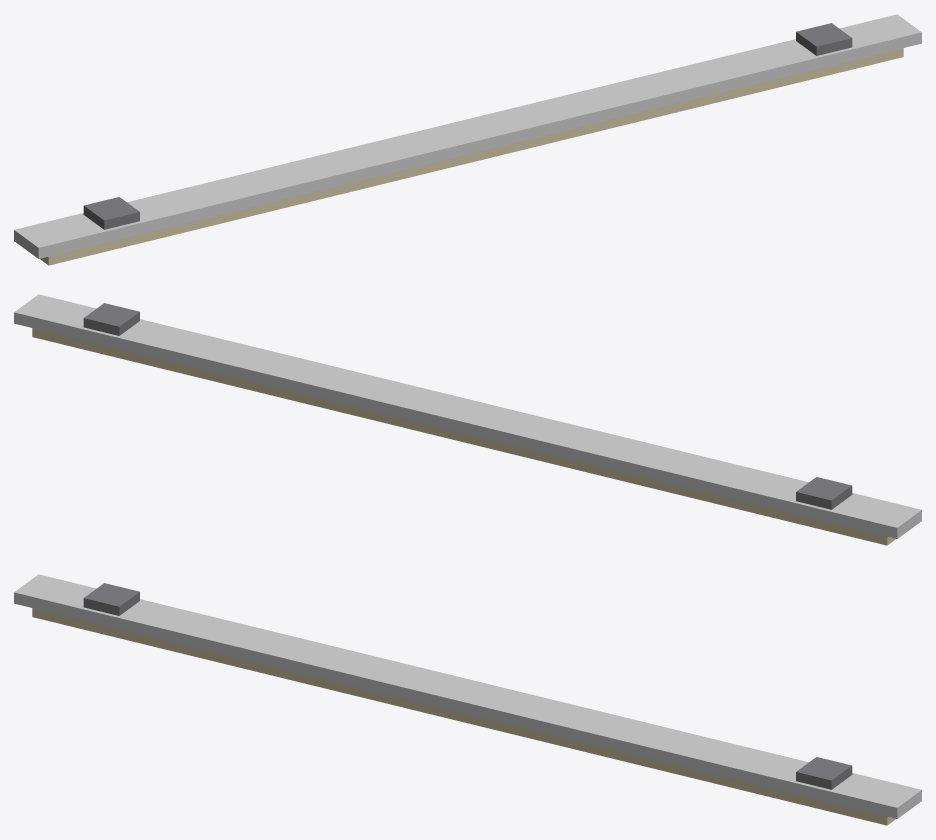
Rendered from ilu_fita_armario.glb.
3 renders of one model, top to bottom at view 1: azimuth 30°, elevation 25°; view 2: azimuth 150°, elevation 25°; view 3: azimuth 330°, elevation 25°, orthographic.
Parts seen in each view (by area): view 1: ILU_Fita_Armario_v01; view 2: ILU_Fita_Armario_v01; view 3: ILU_Fita_Armario_v01.
Boxes of the visible parts, left/top/right/bottom form: ILU_Fita_Armario_v01: left=14, top=14, right=921, bottom=265; ILU_Fita_Armario_v01: left=14, top=294, right=921, bottom=545; ILU_Fita_Armario_v01: left=14, top=574, right=921, bottom=825.
Bounding box in the file's own units: 1.24 × 0.045 × 0.06.
